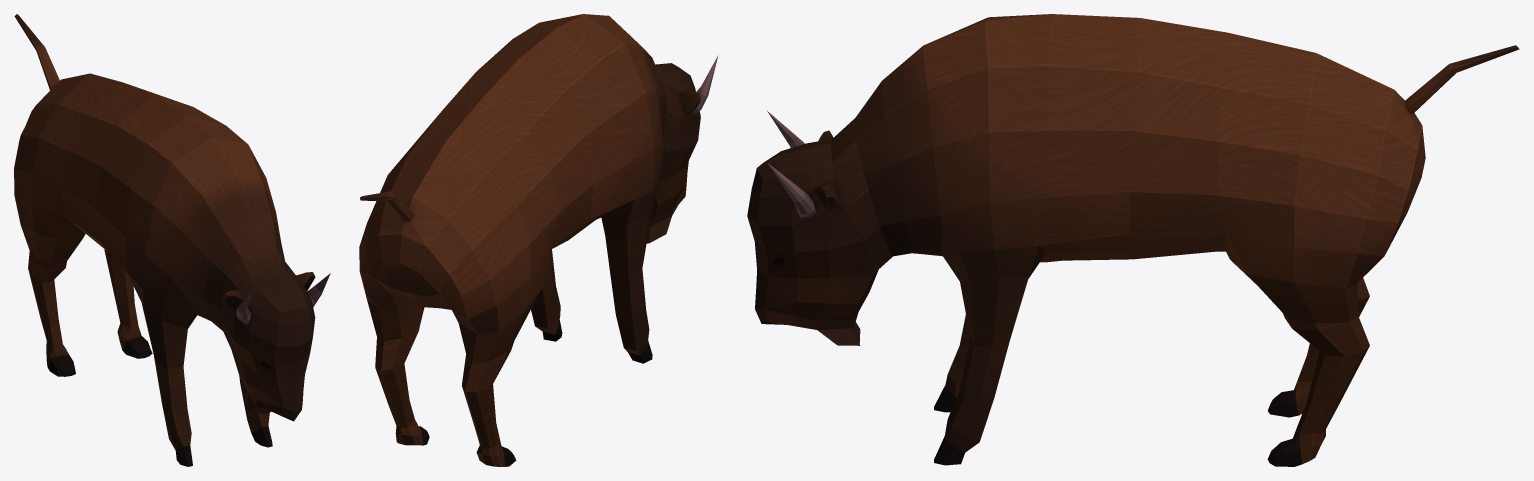
The model's file is BisonBeefalo.gltf.
3 renders of one model, left to right at view 1: azimuth 30°, elevation 25°; view 2: azimuth 150°, elevation 25°; view 3: azimuth 270°, elevation 25°, orthographic. The views are drawn at different scales.
Visible parts, largest first — view 1: node-0; view 2: node-0; view 3: node-0.
Boxes of the visible parts, box(x1,y1,x2,y2) form: node-0: box(14, 14, 330, 466); node-0: box(359, 14, 718, 466); node-0: box(747, 14, 1519, 466).
Bounding box in the file's own units: 5.02 × 11.17 × 18.57.
1 material, 1 textured.
